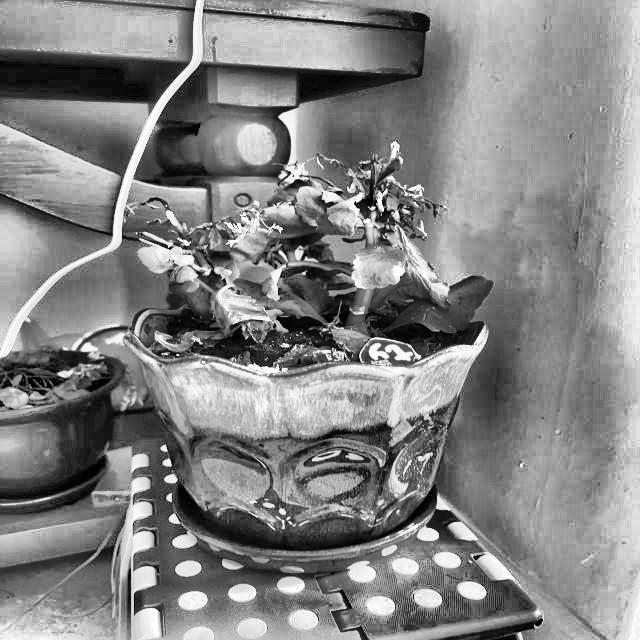plants: (153, 200, 504, 358)
